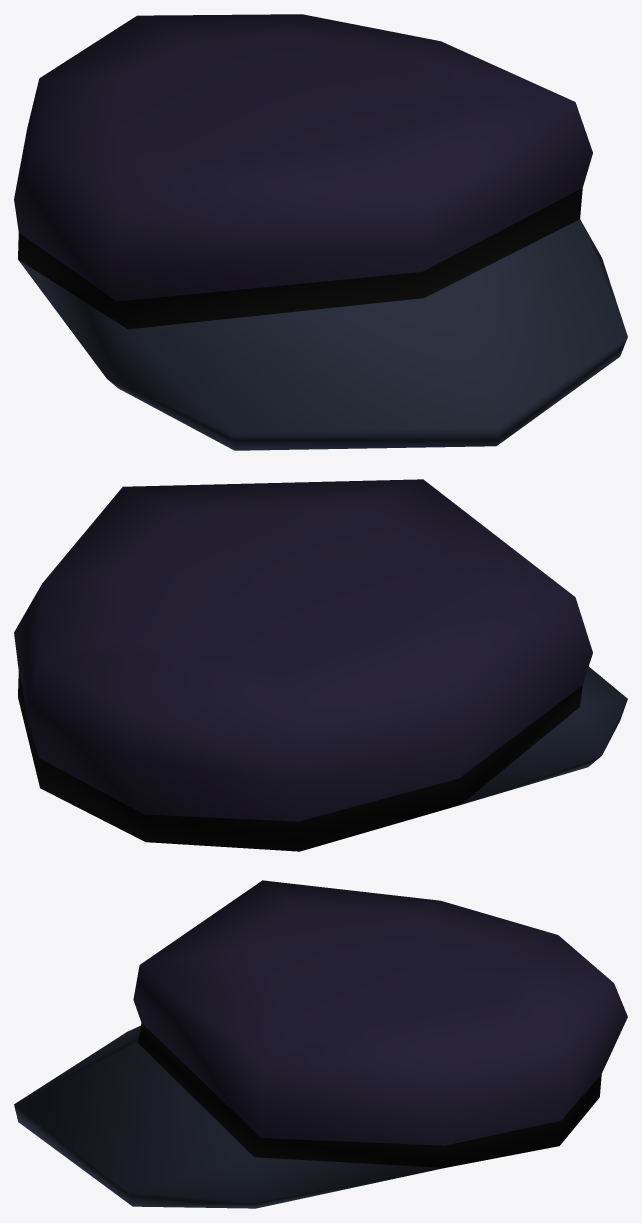
File: Old-Cap.fbx
The picture shows the model from 3 angles, top to bottom: view 1: azimuth 30°, elevation 25°; view 2: azimuth 150°, elevation 25°; view 3: azimuth 270°, elevation 25°; orthographic projection. The views are drawn at different scales.
Parts seen in each view (by area): view 1: Hat; view 2: Hat; view 3: Hat.
Boxes of the visible parts, <box> form: Hat: <box>14,14,627,450</box>; Hat: <box>14,479,627,851</box>; Hat: <box>14,880,627,1208</box>.
Bounding box in the file's own units: 195 × 80.95 × 253.
